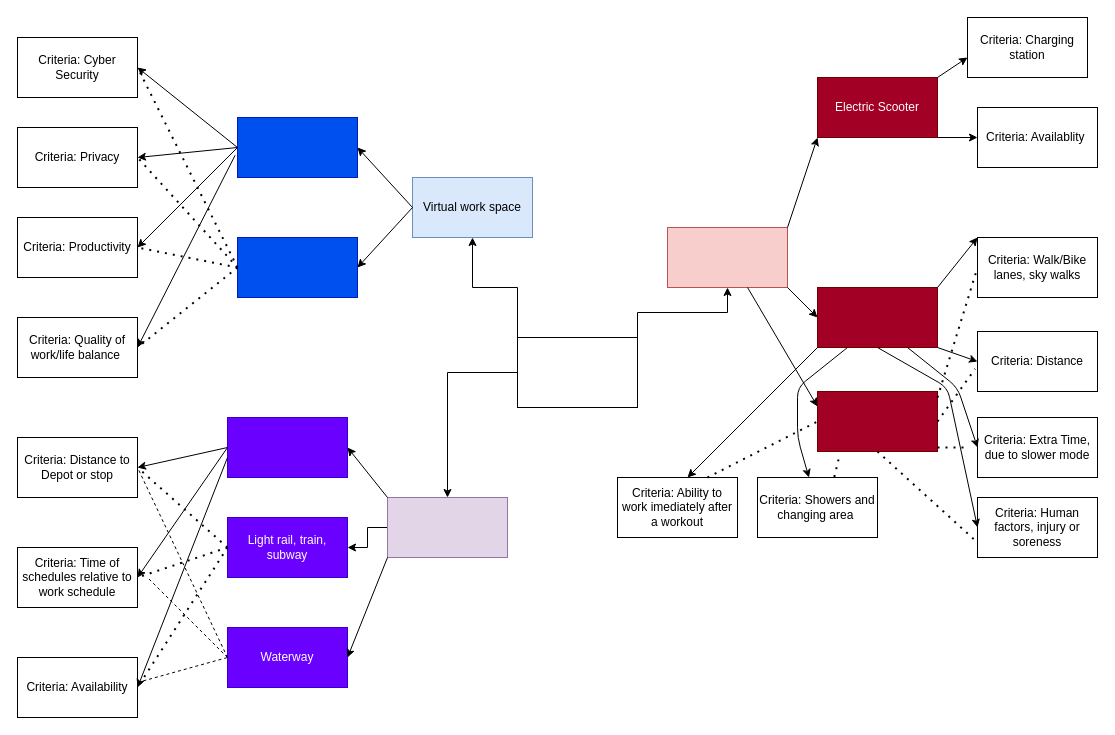
Image size: 1115x735. Some labels were removed from this diagram. Here are the shapes that lost their labels. From the top down, the box of each, then its label:
(236, 116, 358, 178): Zoom
(236, 236, 358, 298): MS Teams
(666, 226, 788, 288): Smaller Personal vehicles
(816, 286, 938, 348): Bike
(516, 336, 638, 408): Automobile transportation system to work
(816, 390, 938, 452): Walk
(226, 416, 348, 478): Bus
(386, 496, 508, 558): Public Transportation
